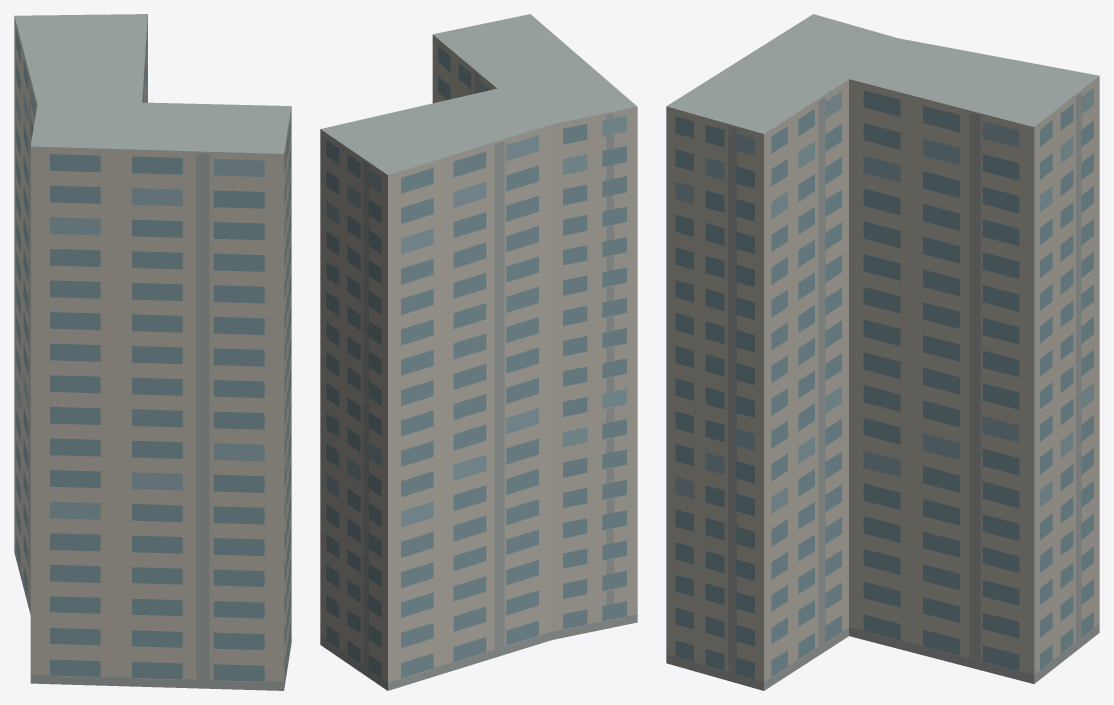
The model's file is residential-14370a6a-0a00-456a-98bd-1b08b099c8b0.glb.
3 renders of one model, left to right at view 1: azimuth 30°, elevation 25°; view 2: azimuth 150°, elevation 25°; view 3: azimuth 270°, elevation 25°, orthographic. The views are drawn at different scales.
Parts seen in each view (by area): view 1: residential-14370a6a-0a00-456a-98bd-1b08b099c8b0.tmp; view 2: residential-14370a6a-0a00-456a-98bd-1b08b099c8b0.tmp; view 3: residential-14370a6a-0a00-456a-98bd-1b08b099c8b0.tmp.
Part boxes in pixels (bbox=[...]): residential-14370a6a-0a00-456a-98bd-1b08b099c8b0.tmp: bbox=[14, 14, 291, 690]; residential-14370a6a-0a00-456a-98bd-1b08b099c8b0.tmp: bbox=[320, 14, 637, 690]; residential-14370a6a-0a00-456a-98bd-1b08b099c8b0.tmp: bbox=[666, 14, 1099, 690].
Bounding box in the file's own units: 25.43 × 55 × 38.81.
